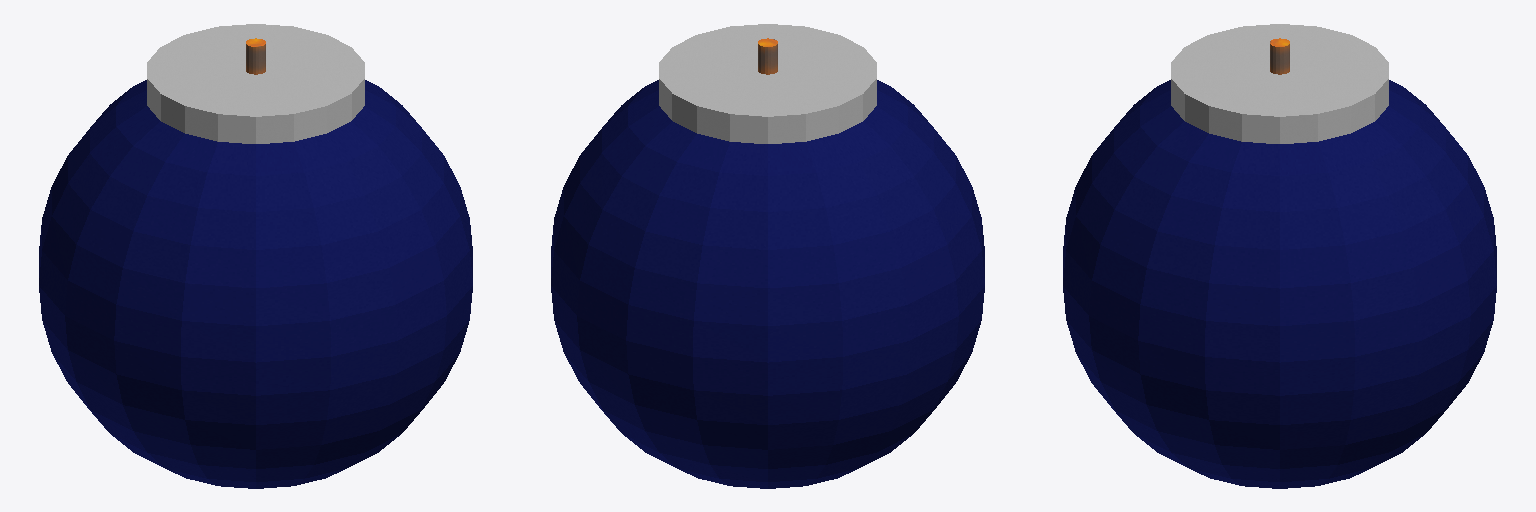
3 renders of one model, left to right at view 1: azimuth 30°, elevation 25°; view 2: azimuth 150°, elevation 25°; view 3: azimuth 270°, elevation 25°, orthographic.
Parts seen in each view (by area): view 1: pSphere1; view 2: pSphere1; view 3: pSphere1.
Part boxes in pixels (x1,y1,x2,y2): pSphere1: (39,24,472,488); pSphere1: (551,24,984,488); pSphere1: (1063,24,1496,488).
Size of the model in its own units: 0.487 by 0.5195 by 0.4796.
1 materials, 1 textured.